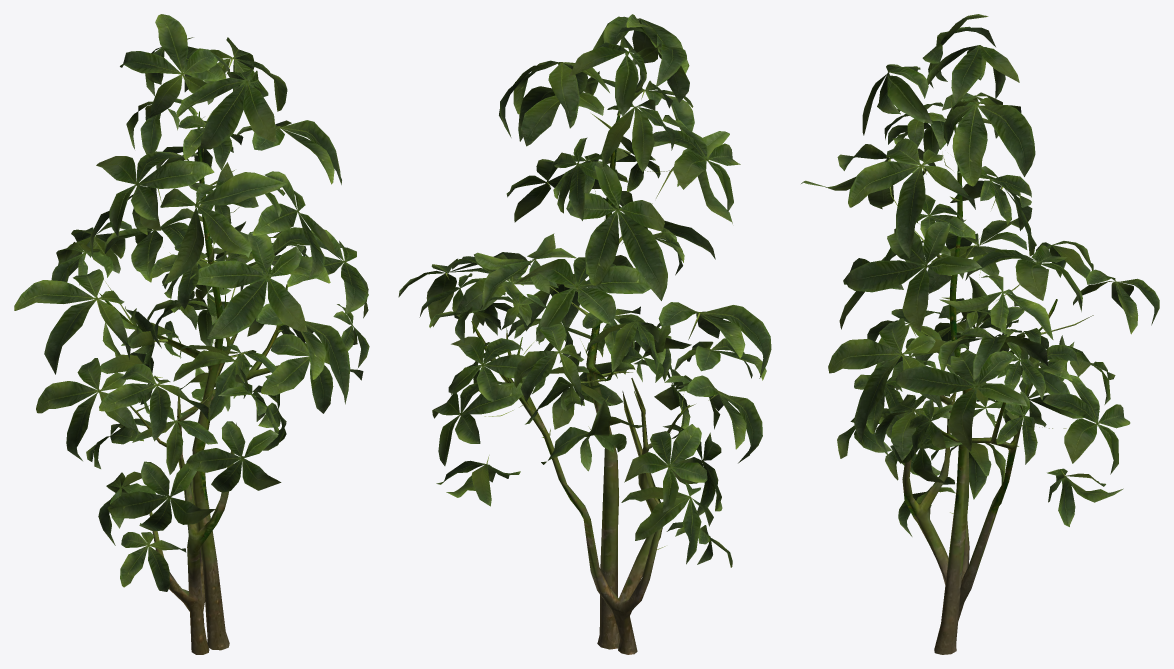
Rendered from pachira_aquatica_01.glb.
The picture shows the model from 3 angles, left to right: view 1: azimuth 30°, elevation 25°; view 2: azimuth 150°, elevation 25°; view 3: azimuth 270°, elevation 25°; orthographic projection. The views are drawn at different scales.
Visible parts, largest first — view 1: pachira_aquatica_01_leaves_d, pachira_aquatica_01_bark_d; view 2: pachira_aquatica_01_leaves_d, pachira_aquatica_01_bark_d; view 3: pachira_aquatica_01_leaves_d, pachira_aquatica_01_bark_d.
Boxes of the visible parts, x1=… form: pachira_aquatica_01_leaves_d: x1=14, y1=14, x2=369, y2=591; pachira_aquatica_01_bark_d: x1=99, y1=111, x2=287, y2=654; pachira_aquatica_01_leaves_d: x1=398, y1=14, x2=771, y2=567; pachira_aquatica_01_bark_d: x1=471, y1=111, x2=689, y2=654; pachira_aquatica_01_leaves_d: x1=801, y1=14, x2=1159, y2=536; pachira_aquatica_01_bark_d: x1=902, y1=126, x2=1057, y2=654.
Bounding box in the file's own units: 1.05 × 1.9 × 0.997.
Materials: 2 (2 with a texture image).
